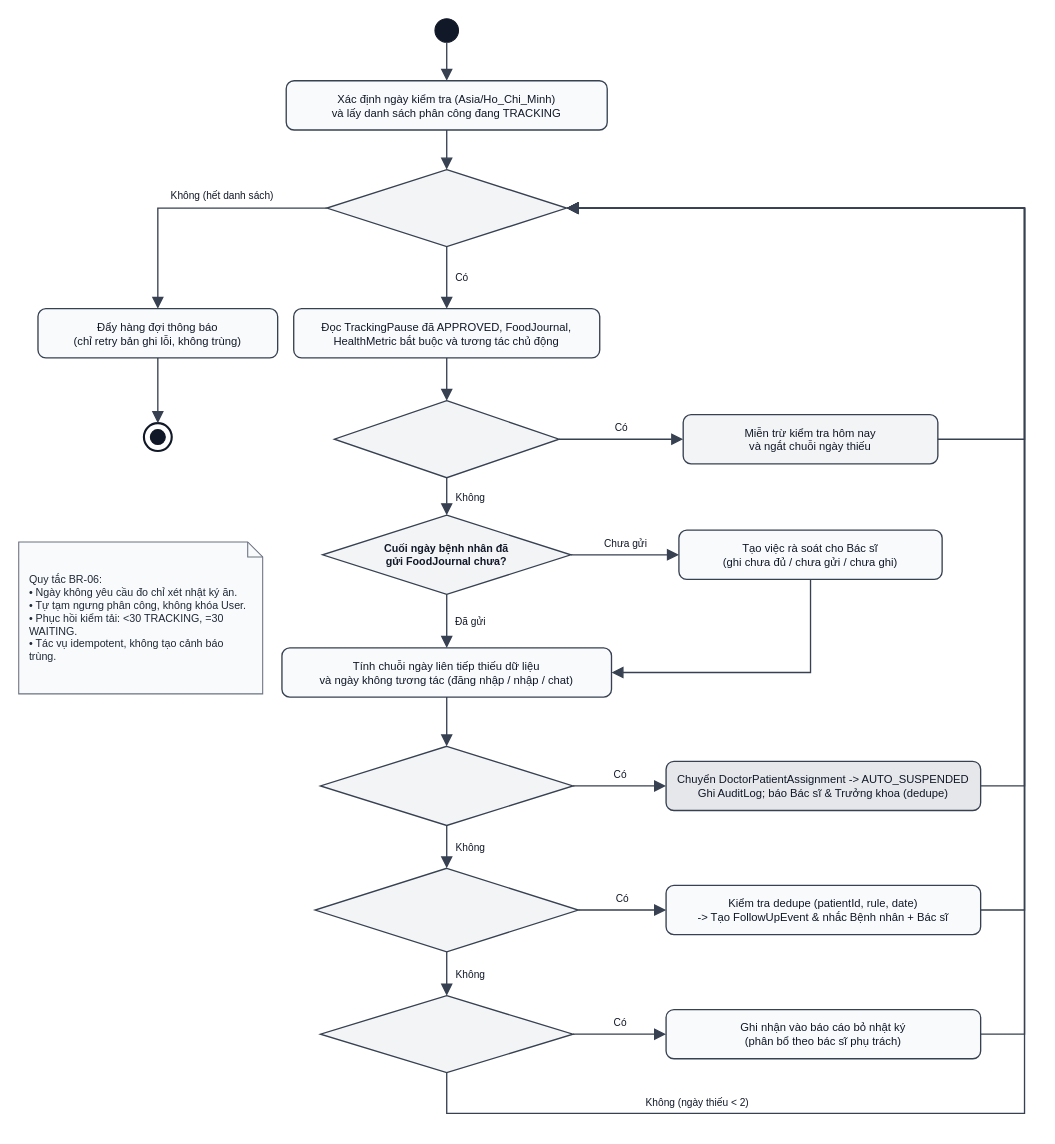
Image size: 1055x1144. Some labels were removed from this diagram. The box of each missing label's shape, as (x1, y1, x2, y2) in pixels:
>= 3 ngày liên tiếp thiếu nhật ký ăn & chỉ số yêu cầu?: (314, 867, 579, 952)
>= 6 ngày liên tiếp không có tương tác chủ động?: (319, 745, 573, 826)
Còn phân công TRACKING chưa xét?: (326, 168, 567, 247)
Ngày thuộc khoảng tạm dừng APPROVED?: (333, 400, 559, 478)
Thiếu nhật ký từ ngày thứ 2 trở lên?: (319, 994, 573, 1073)
